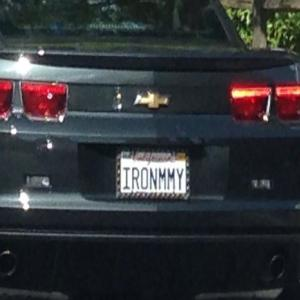Vehicle-registration-plate: (113, 153, 197, 202)
